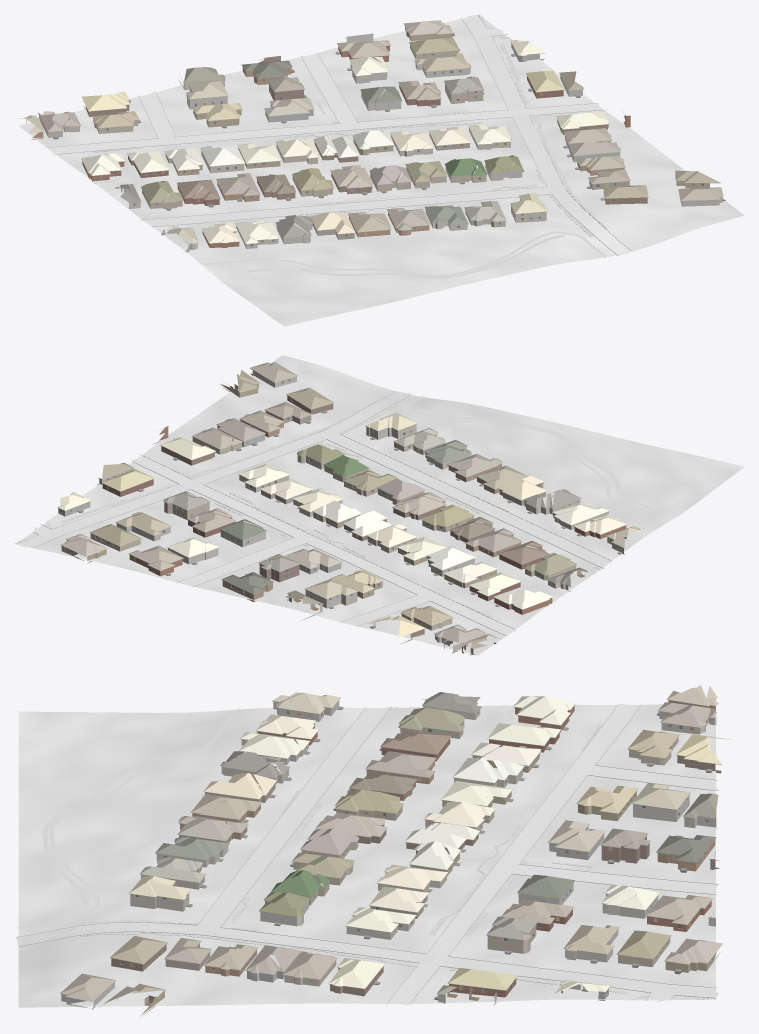
The picture shows the model from 3 angles, top to bottom: view 1: azimuth 30°, elevation 25°; view 2: azimuth 150°, elevation 25°; view 3: azimuth 270°, elevation 25°; orthographic projection. The views are drawn at different scales.
Visible parts, largest first — view 1: ground, roof, wall, concrete, asphalt, walk, detail, wall_stucco, curb, wall_stone, mark_w, glass; view 2: ground, roof, wall, concrete, asphalt, detail, wall_stucco, walk, curb, wall_stone, glass; view 3: ground, roof, concrete, wall, asphalt, wall_stucco, detail, walk, curb, wall_stone, mark_w, mark_y (+1 smaller).
Part boxes in pixels (x1,y1,x2,y2): ground: [19, 16, 744, 326]; roof: [17, 20, 723, 245]; wall: [26, 27, 709, 247]; concrete: [139, 15, 554, 226]; asphalt: [50, 103, 631, 255]; walk: [93, 14, 607, 278]; detail: [32, 31, 725, 246]; wall_stucco: [39, 43, 620, 252]; curb: [46, 15, 632, 255]; wall_stone: [179, 33, 722, 248]; mark_w: [49, 28, 631, 254]; glass: [85, 46, 703, 246]; ground: [16, 355, 744, 655]; roof: [57, 362, 644, 648]; wall: [61, 384, 626, 655]; concrete: [17, 434, 611, 626]; asphalt: [132, 391, 516, 634]; detail: [57, 368, 627, 647]; wall_stucco: [58, 424, 624, 653]; walk: [14, 376, 661, 617]; curb: [17, 391, 611, 635]; wall_stone: [116, 370, 608, 621]; glass: [61, 379, 611, 635]; ground: [18, 704, 715, 1007]; roof: [60, 684, 734, 1003]; concrete: [198, 706, 719, 1002]; wall: [111, 699, 721, 1017]; asphalt: [16, 703, 639, 1005]; wall_stucco: [130, 700, 716, 1005]; detail: [60, 698, 721, 1005]; walk: [15, 704, 715, 1007]; curb: [16, 704, 719, 1005]; wall_stone: [61, 739, 716, 1009]; mark_w: [18, 705, 670, 1004]; mark_y: [17, 705, 629, 1003].
Bounding box in the file's own units: 265 × 17.08 × 262.
